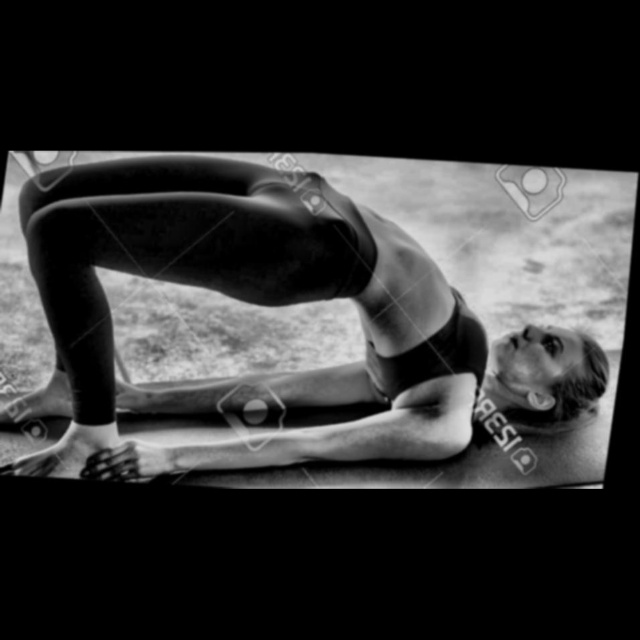Bridge_Pose: (1, 153, 614, 490)
